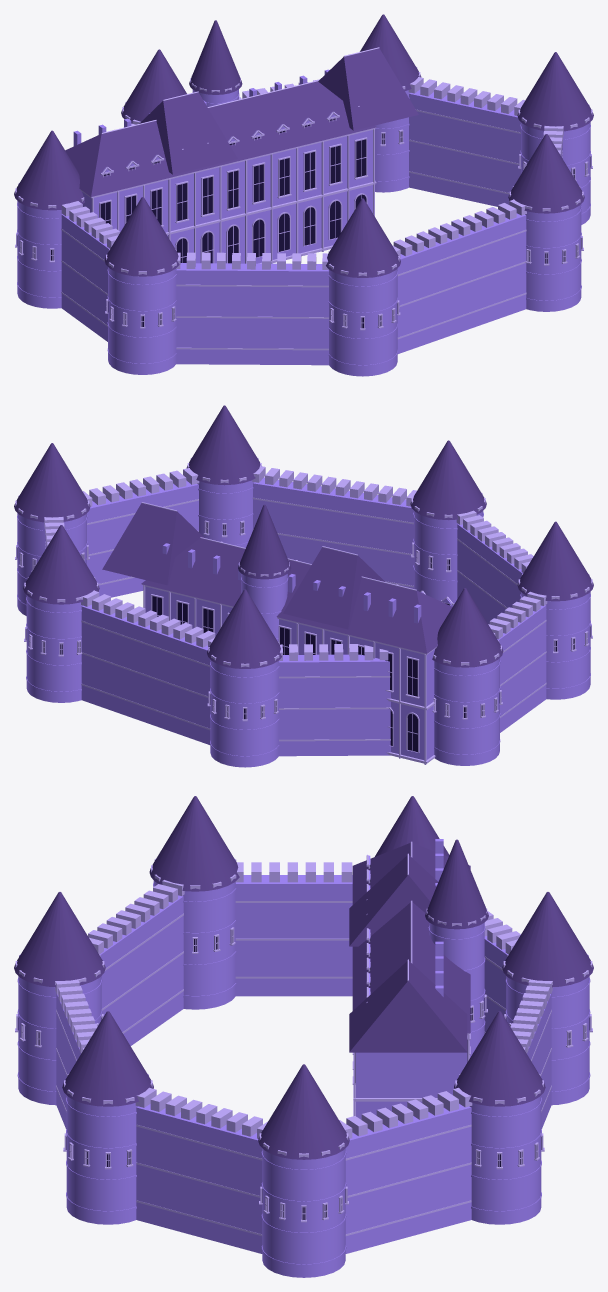
The model's file is nantes_violet_light.glb.
3 views of the same model, one above another, from view 1: azimuth 30°, elevation 25°; view 2: azimuth 150°, elevation 25°; view 3: azimuth 270°, elevation 25° (orthographic). The views are drawn at different scales.
Parts seen in each view (by area): view 1: Violet stone, Violet slate, Lavender carved stone, Recessed glazing; view 2: Violet stone, Violet slate, Lavender carved stone, Recessed glazing; view 3: Violet stone, Violet slate, Lavender carved stone.
Part boxes in pixels (<box>): Violet stone: <box>17,69,590,376</box>; Violet slate: <box>14,14,593,277</box>; Lavender carved stone: <box>15,47,592,350</box>; Recessed glazing: <box>17,118,590,328</box>; Violet stone: <box>17,477,590,767</box>; Violet slate: <box>14,405,593,668</box>; Lavender carved stone: <box>15,457,592,764</box>; Recessed glazing: <box>17,523,590,751</box>; Violet stone: <box>17,839,590,1277</box>; Violet slate: <box>14,796,593,1159</box>; Lavender carved stone: <box>15,841,592,1235</box>.
Bounding box in the file's own units: 81.52 × 32 × 65.09.
